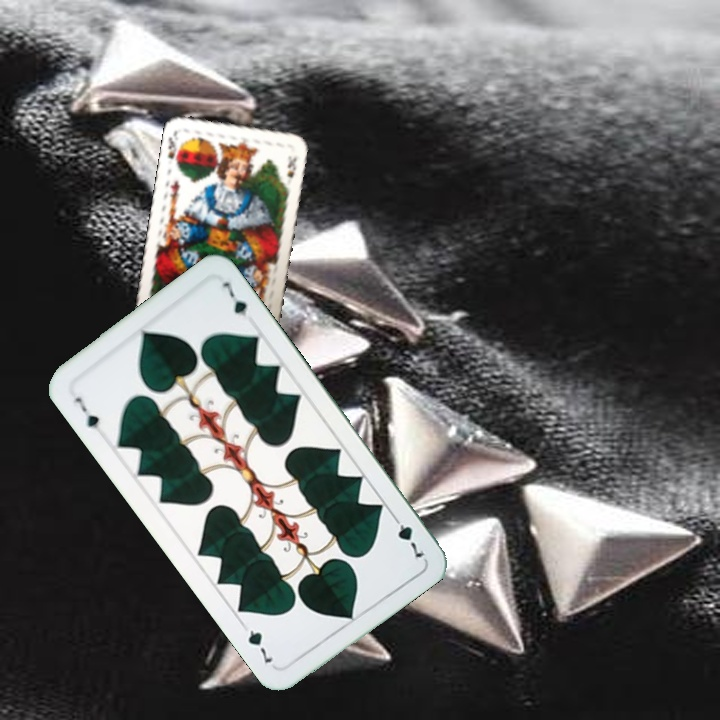G7: (387, 509, 428, 563), (70, 392, 102, 432)
SK: (164, 127, 183, 168)
